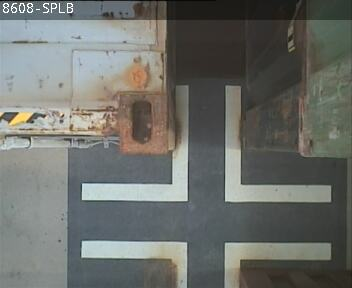groundmarker_1: (81, 85, 330, 201), (81, 238, 331, 288)
